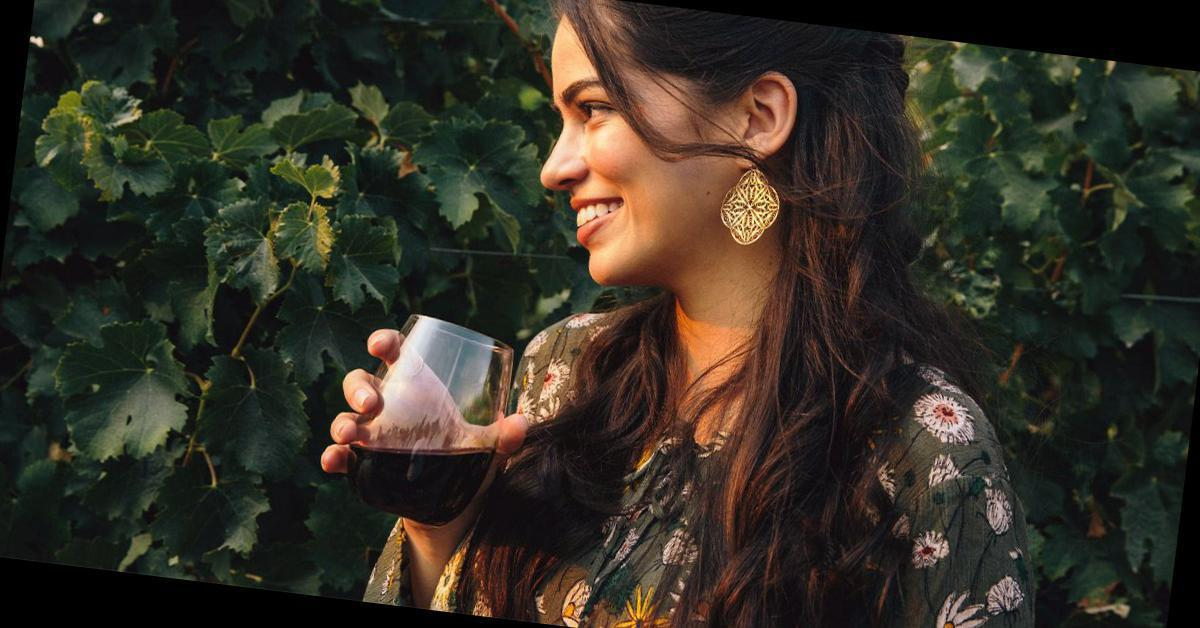Drunk: (548, 10, 721, 284)
